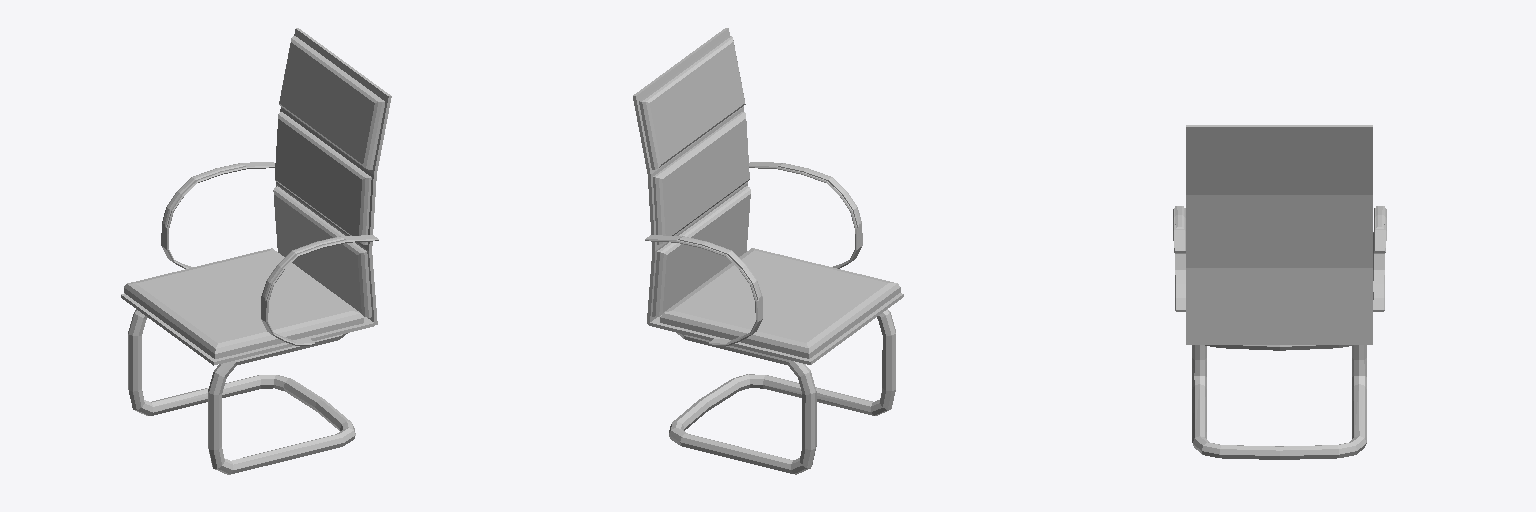
The model's file is Gues chair.obj.
The picture shows the model from 3 angles: view 1: azimuth 30°, elevation 25°; view 2: azimuth 150°, elevation 25°; view 3: azimuth 270°, elevation 25°; orthographic projection.
Parts seen in each view (by area): view 1: Guest_Chair; view 2: Guest_Chair; view 3: Guest_Chair.
Boxes of the visible parts, x1=… form: Guest_Chair: x1=121, y1=28, x2=391, y2=474; Guest_Chair: x1=633, y1=28, x2=903, y2=474; Guest_Chair: x1=1173, y1=125, x2=1386, y2=459.
Bounding box in the file's own units: 56.34 × 104 × 58.49.